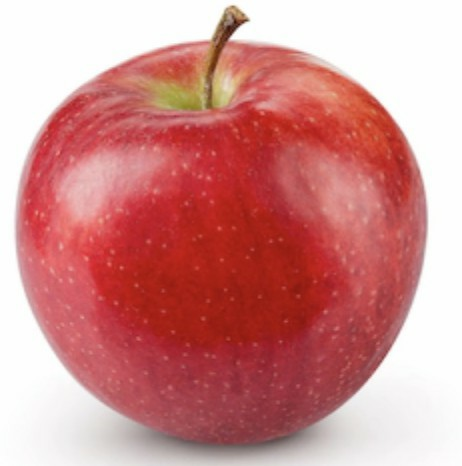fresh_apple: (19, 38, 427, 443)
